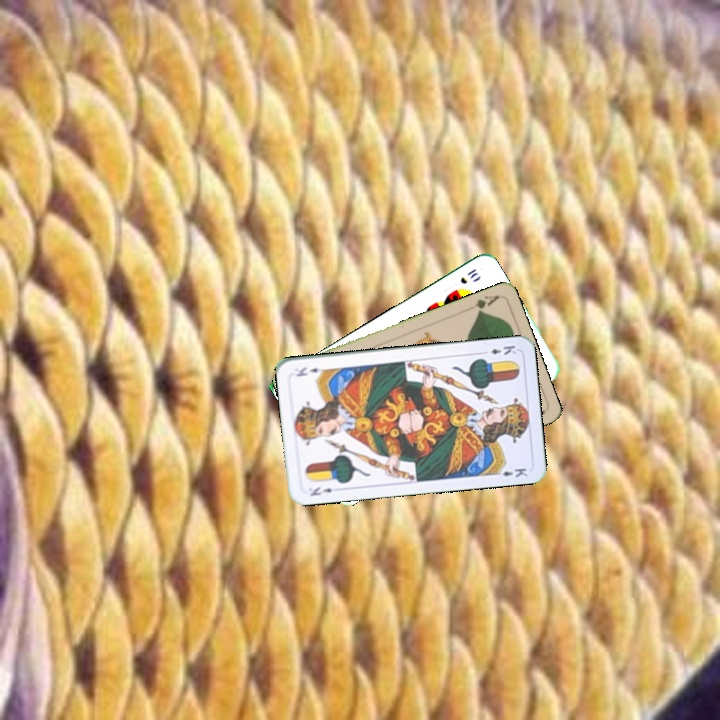EK: (478, 341, 519, 357), (306, 483, 335, 499)
GA: (462, 291, 501, 316)
S10: (456, 265, 481, 286)
